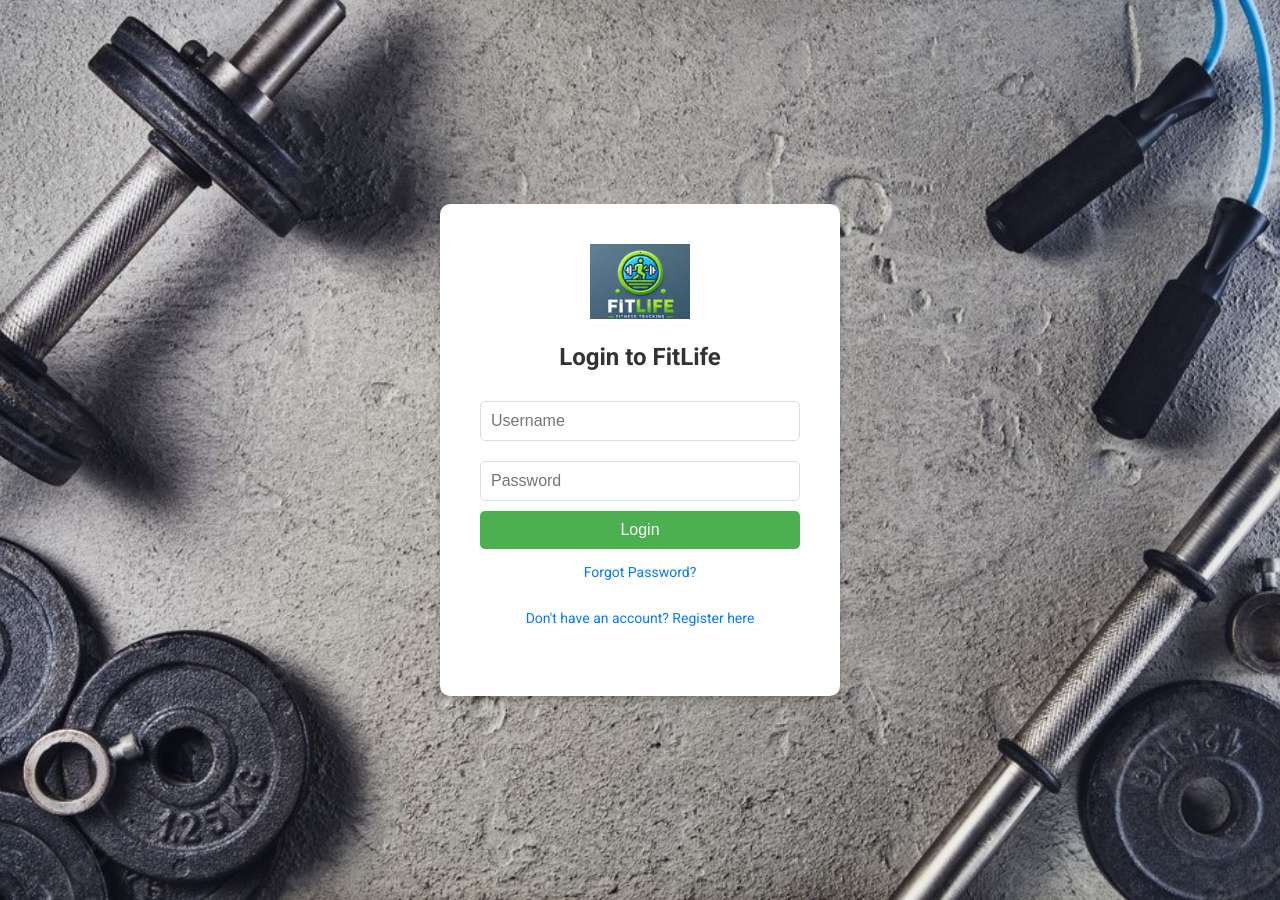
Scenario: Login Component › switches to registration form
// Click on register link
Click the text "Don't have an account? Register here": [640, 618] box [526,610,754,626]
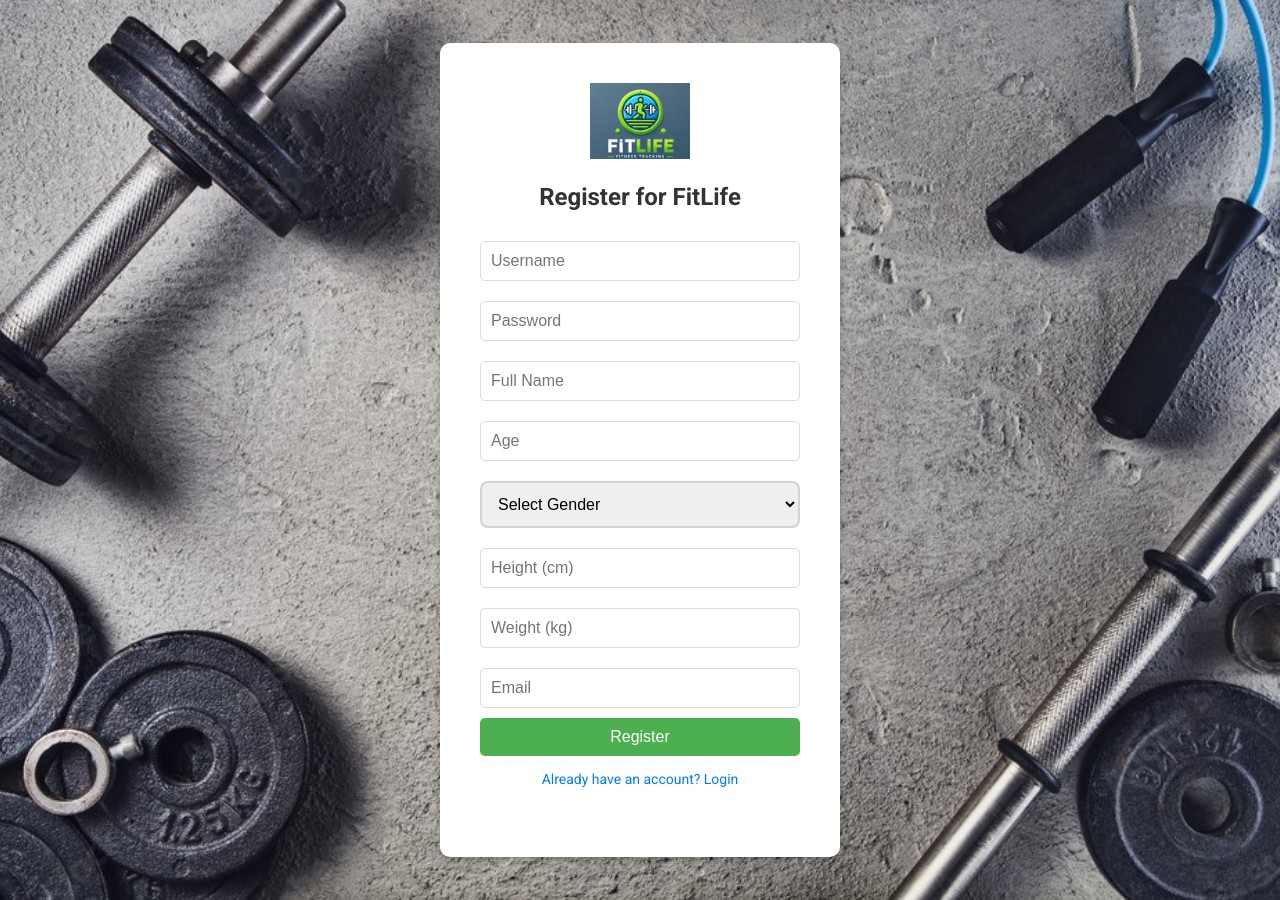
Expected: the field with placeholder "Full Name" is shown, [480,361,800,401]
Expected: the number field with placeholder "Age" is shown, [480,421,800,461]
Expected: the number field with placeholder "Height (cm)" is shown, [480,548,800,588]
